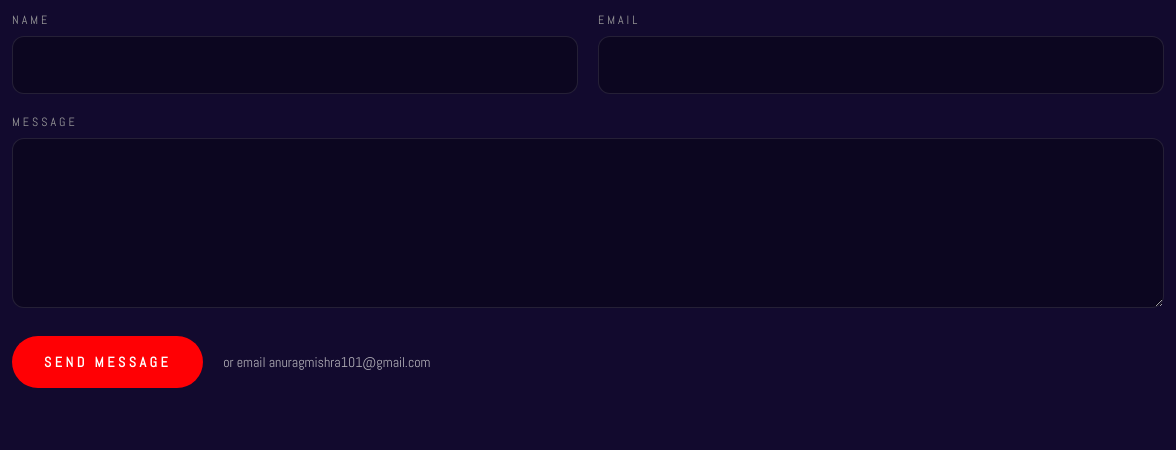
Test: ContactForm › confirms success
Type "Jane Doe" into the field labelled "Name" at coordinates (295, 65), box [12,36,578,94]
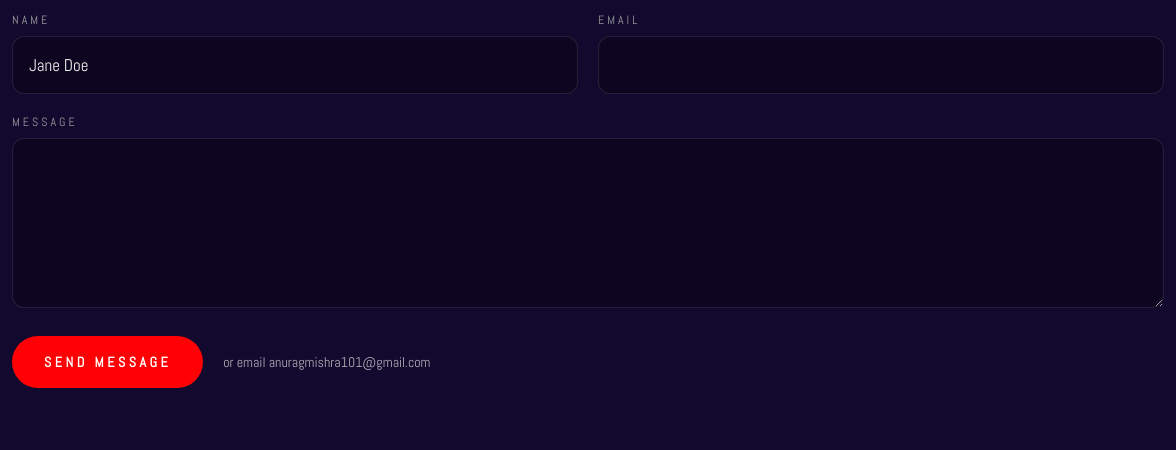
Type "jane@example.com" into the field labelled "Email" at coordinates (881, 65), box [598,36,1164,94]
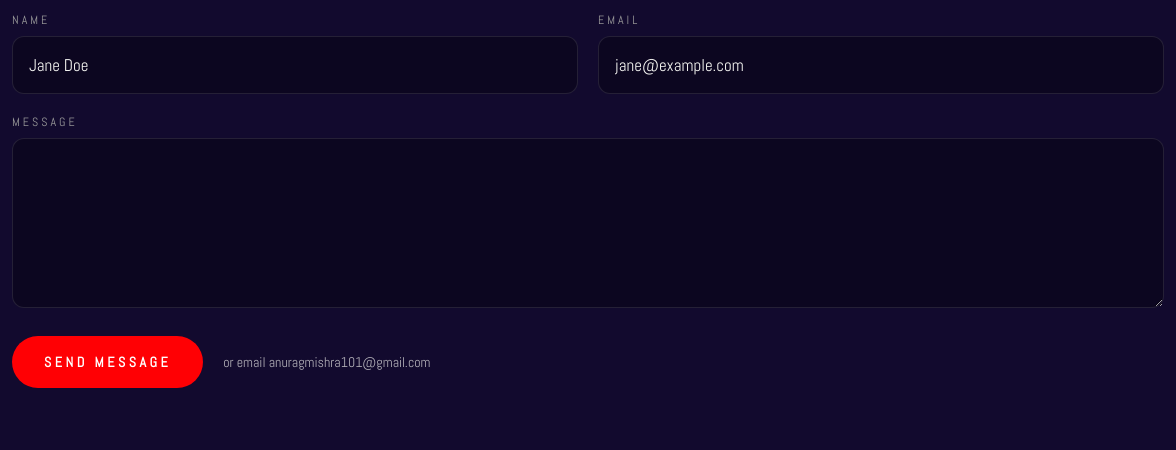
Type "Hello, I love the work." into the text box labelled "Message" at coordinates (588, 223), box [12,138,1164,308]
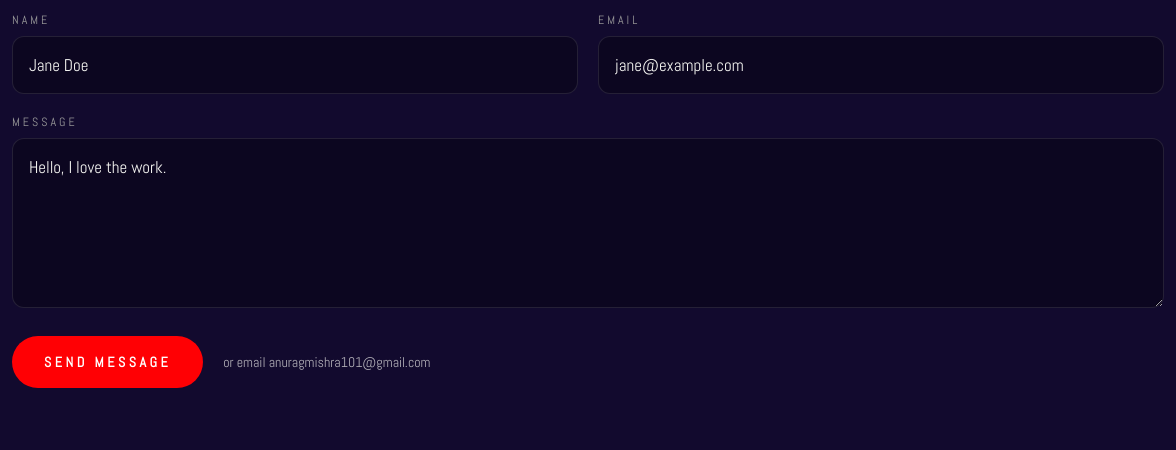
Click the button "Send message" at coordinates (108, 362), box [12,336,203,388]
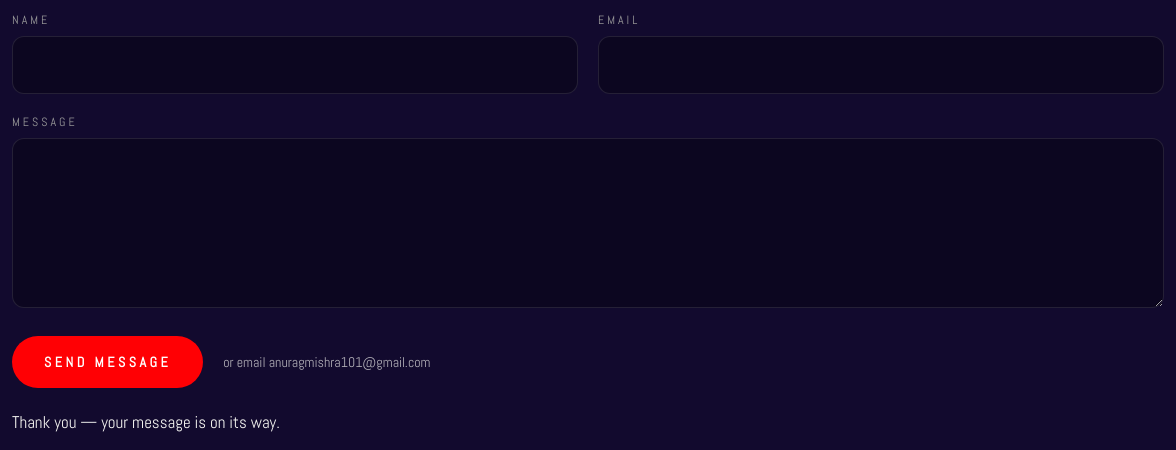
Result: the text "Thank you — your message is on its way." is shown at [12,411,280,433]
